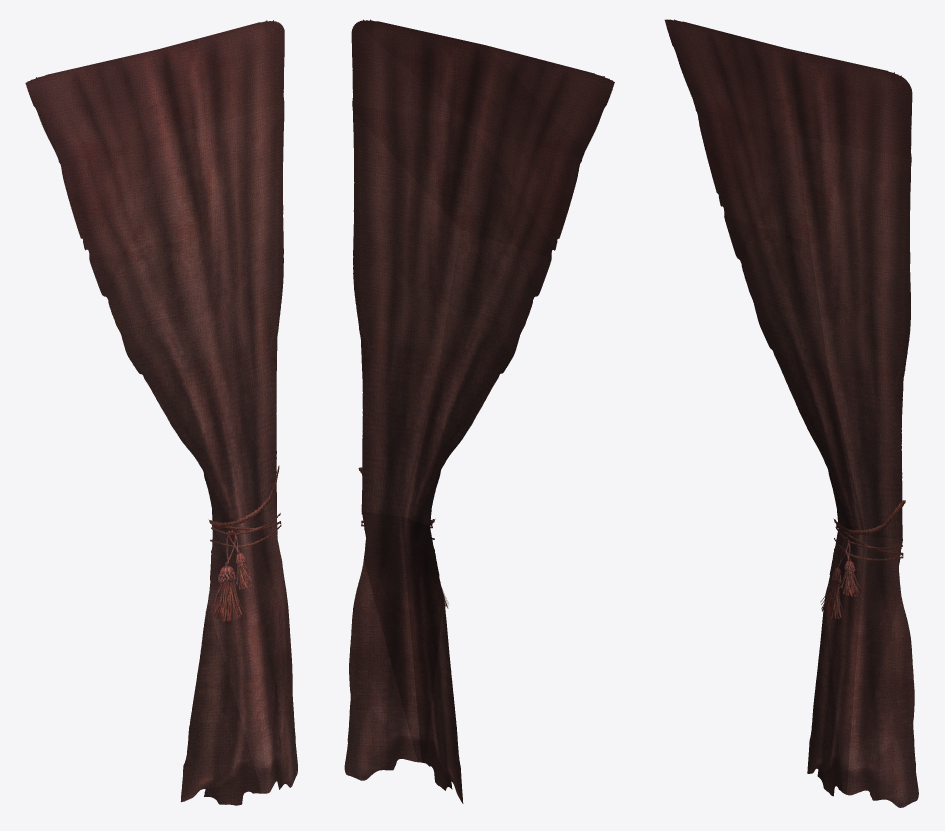
The model's file is bg_lut_lucastle_houseincurtain02_sm_ysi.FBX.
3 views of the same model, side by side, from view 1: azimuth 30°, elevation 25°; view 2: azimuth 150°, elevation 25°; view 3: azimuth 330°, elevation 25° (orthographic). The views are drawn at different scales.
Visible parts, largest first — view 1: bg_lut_lucastle_houseincurtain02_sm_ysi; view 2: bg_lut_lucastle_houseincurtain02_sm_ysi; view 3: bg_lut_lucastle_houseincurtain02_sm_ysi.
Boxes of the visible parts, bbox=[...] form: bg_lut_lucastle_houseincurtain02_sm_ysi: bbox=[25, 20, 297, 805]; bg_lut_lucastle_houseincurtain02_sm_ysi: bbox=[344, 19, 614, 803]; bg_lut_lucastle_houseincurtain02_sm_ysi: bbox=[664, 19, 918, 807].
Size of the model in its own units: 159 by 404 by 26.04.
